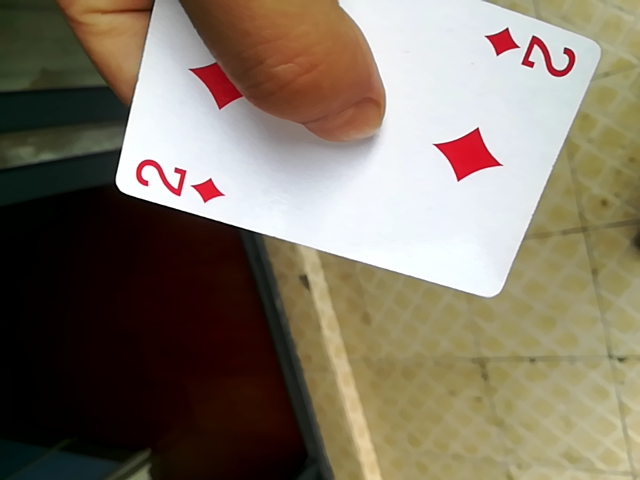fk 2: (111, 0, 612, 302)
